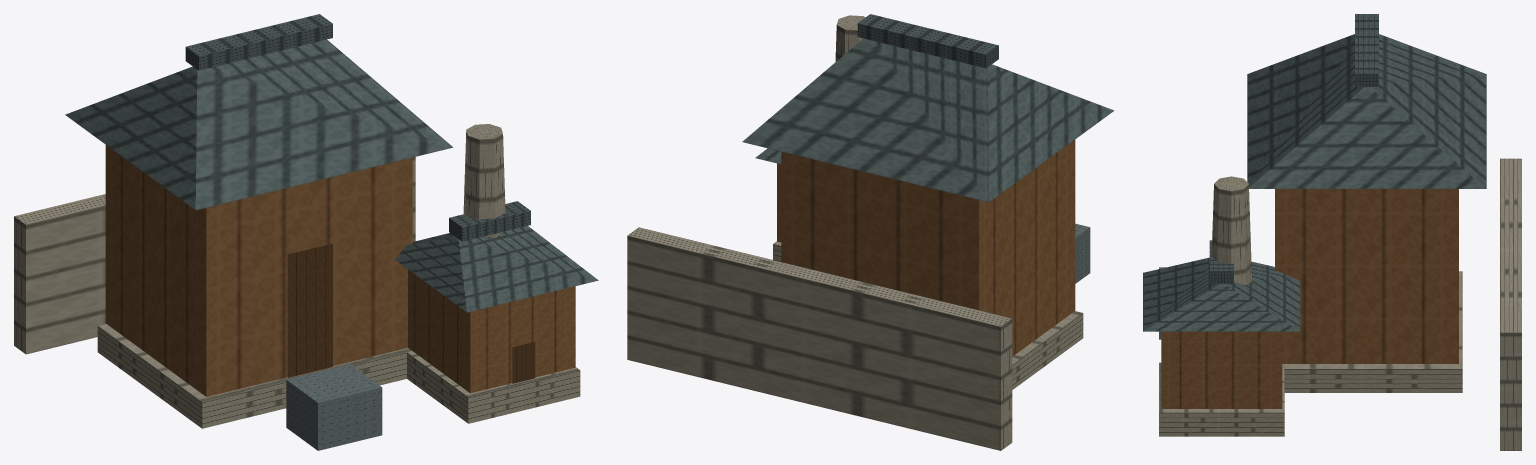
Rendered from domestic-SMITH-3-lod2.glb.
3 renders of one model, left to right at view 1: azimuth 30°, elevation 25°; view 2: azimuth 150°, elevation 25°; view 3: azimuth 270°, elevation 25°, orthographic. The views are drawn at different scales.
Size of the model in its own units: 0.85 by 0.695 by 0.7825.
Materials: 1 (1 with a texture image).
